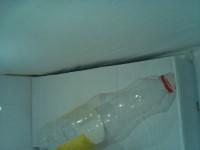bottle: (41, 4, 176, 150)
